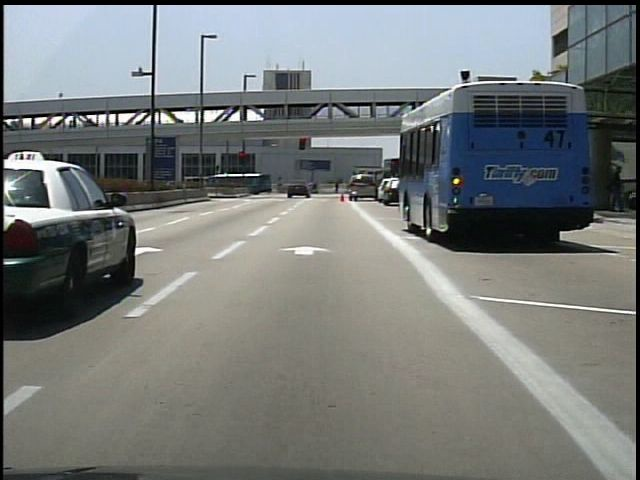person: (310, 181, 320, 196), (332, 180, 341, 195)
